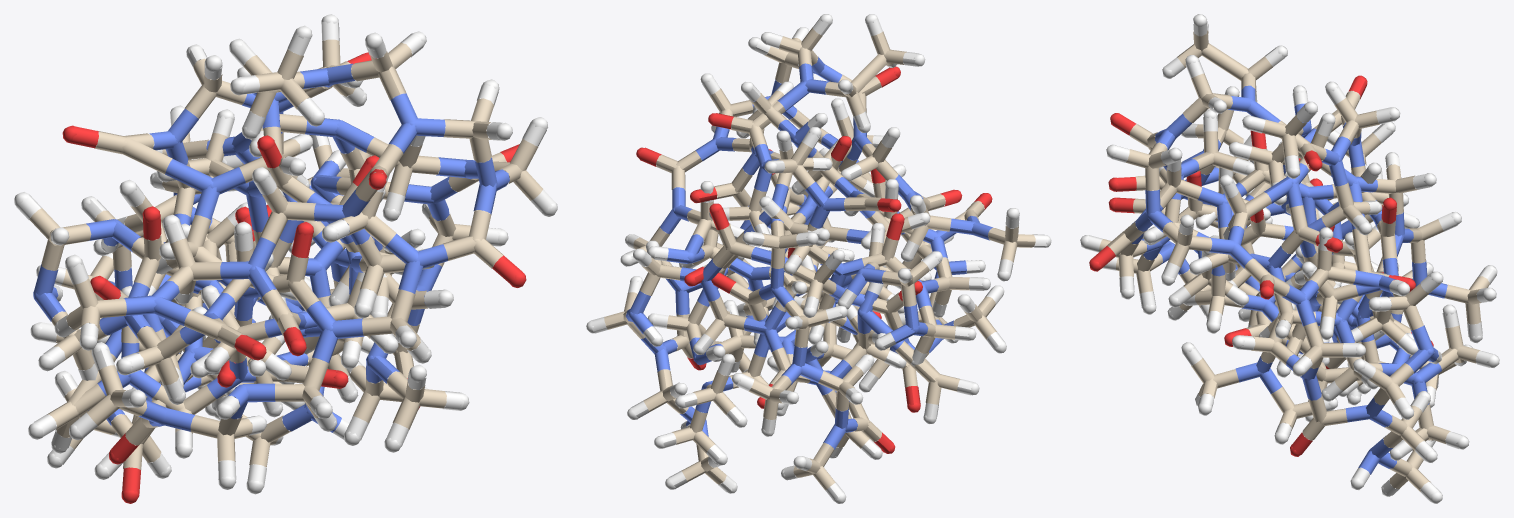
Rendered from Duroplast_Stick.glb.
3 views of the same model, side by side, from view 1: azimuth 30°, elevation 25°; view 2: azimuth 150°, elevation 25°; view 3: azimuth 270°, elevation 25° (orthographic). The views are drawn at different scales.
Parts seen in each view (by area): view 1: VCyl125, VCyl124, VCyl232, VCyl518, VCyl519, VCyl659; view 2: VCyl217, VCyl001; view 3: VCyl001, VCyl394.
Boxes of the visible parts, x1,y1,x2,y2 form: VCyl125: [120, 137, 172, 174]; VCyl124: [165, 159, 213, 191]; VCyl232: [334, 120, 374, 152]; VCyl518: [184, 310, 225, 339]; VCyl519: [153, 296, 191, 325]; VCyl659: [246, 193, 268, 232]; VCyl217: [895, 341, 939, 382]; VCyl001: [851, 54, 887, 92]; VCyl001: [1201, 43, 1248, 80]; VCyl394: [1352, 228, 1371, 272].
Bounding box in the file's own units: 0.6621 × 0.7185 × 0.6013.
